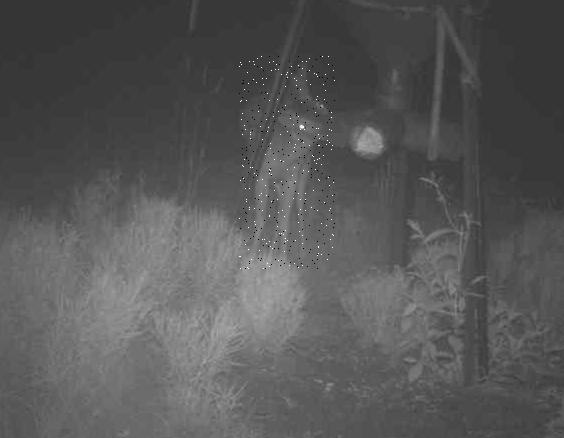Deer: (239, 55, 335, 270)
